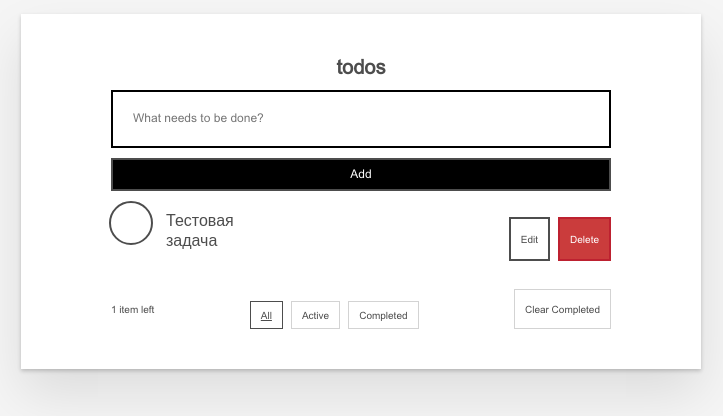
Компонент App › удаляет задачу
What coordinates should you click on to do the following:
click the button "Delete"
I would click on:
 (585, 239)
Its box is [558, 217, 611, 261].
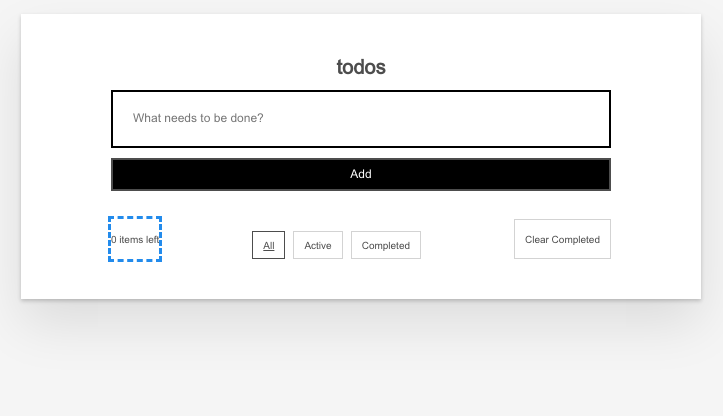
Check: the checkbox "Тестовая задача" is gone
